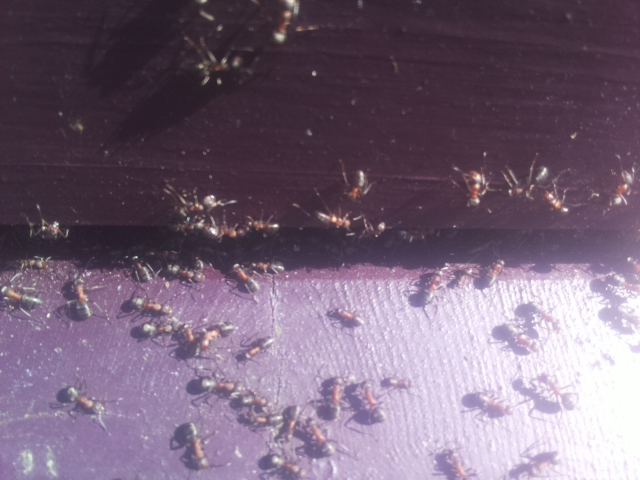ant: (500, 154, 556, 208), (489, 313, 541, 361), (189, 48, 249, 88), (453, 159, 495, 216), (525, 371, 582, 413), (54, 382, 113, 421), (175, 420, 218, 471), (456, 387, 515, 420), (506, 447, 564, 480), (300, 421, 344, 463), (604, 164, 640, 213), (308, 205, 361, 238), (228, 333, 280, 366), (182, 374, 247, 399), (270, 0, 302, 50), (432, 447, 480, 480), (0, 282, 49, 314), (124, 290, 174, 319), (264, 446, 306, 480), (360, 377, 386, 426), (340, 166, 373, 204), (479, 251, 506, 297), (322, 305, 368, 332), (70, 272, 95, 321), (540, 182, 573, 219), (230, 260, 262, 297), (236, 213, 286, 236), (28, 217, 71, 242), (138, 318, 184, 338), (376, 373, 417, 395), (131, 252, 155, 286), (14, 256, 55, 272), (356, 214, 385, 236), (200, 193, 240, 207)
